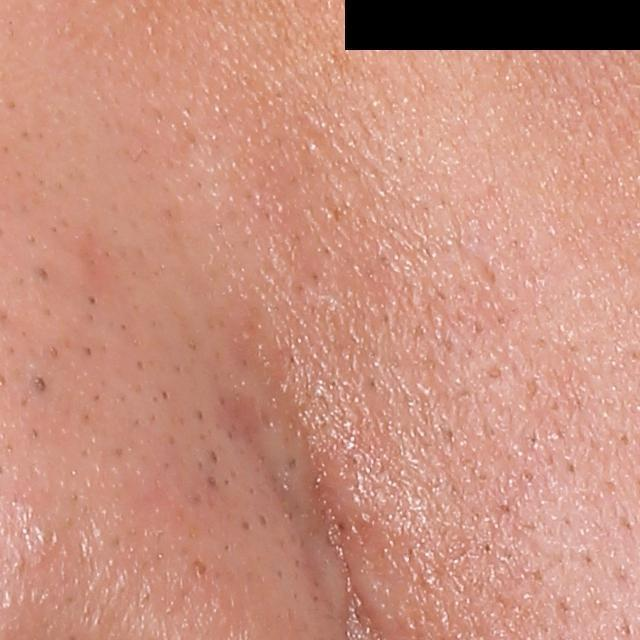comedo: (26, 374, 52, 395), (238, 515, 252, 535)
